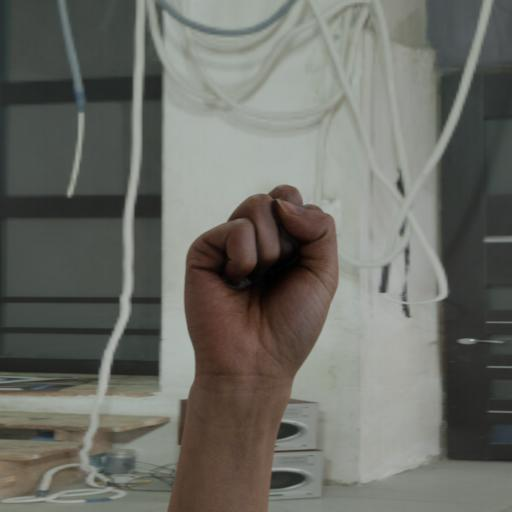S: (184, 184, 346, 382)
